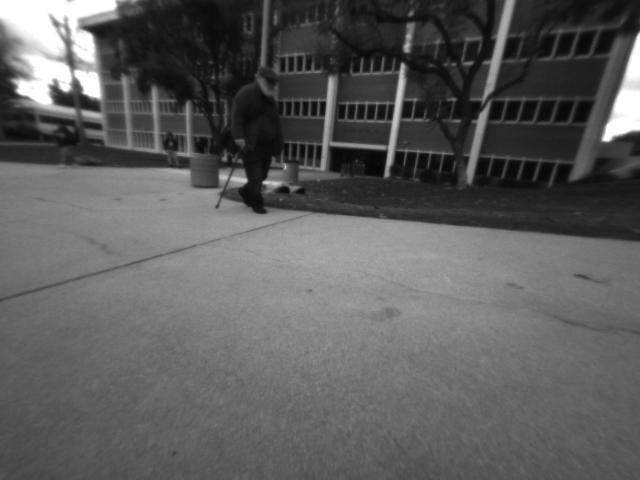trashcan: (184, 146, 224, 189), (280, 156, 301, 186)
